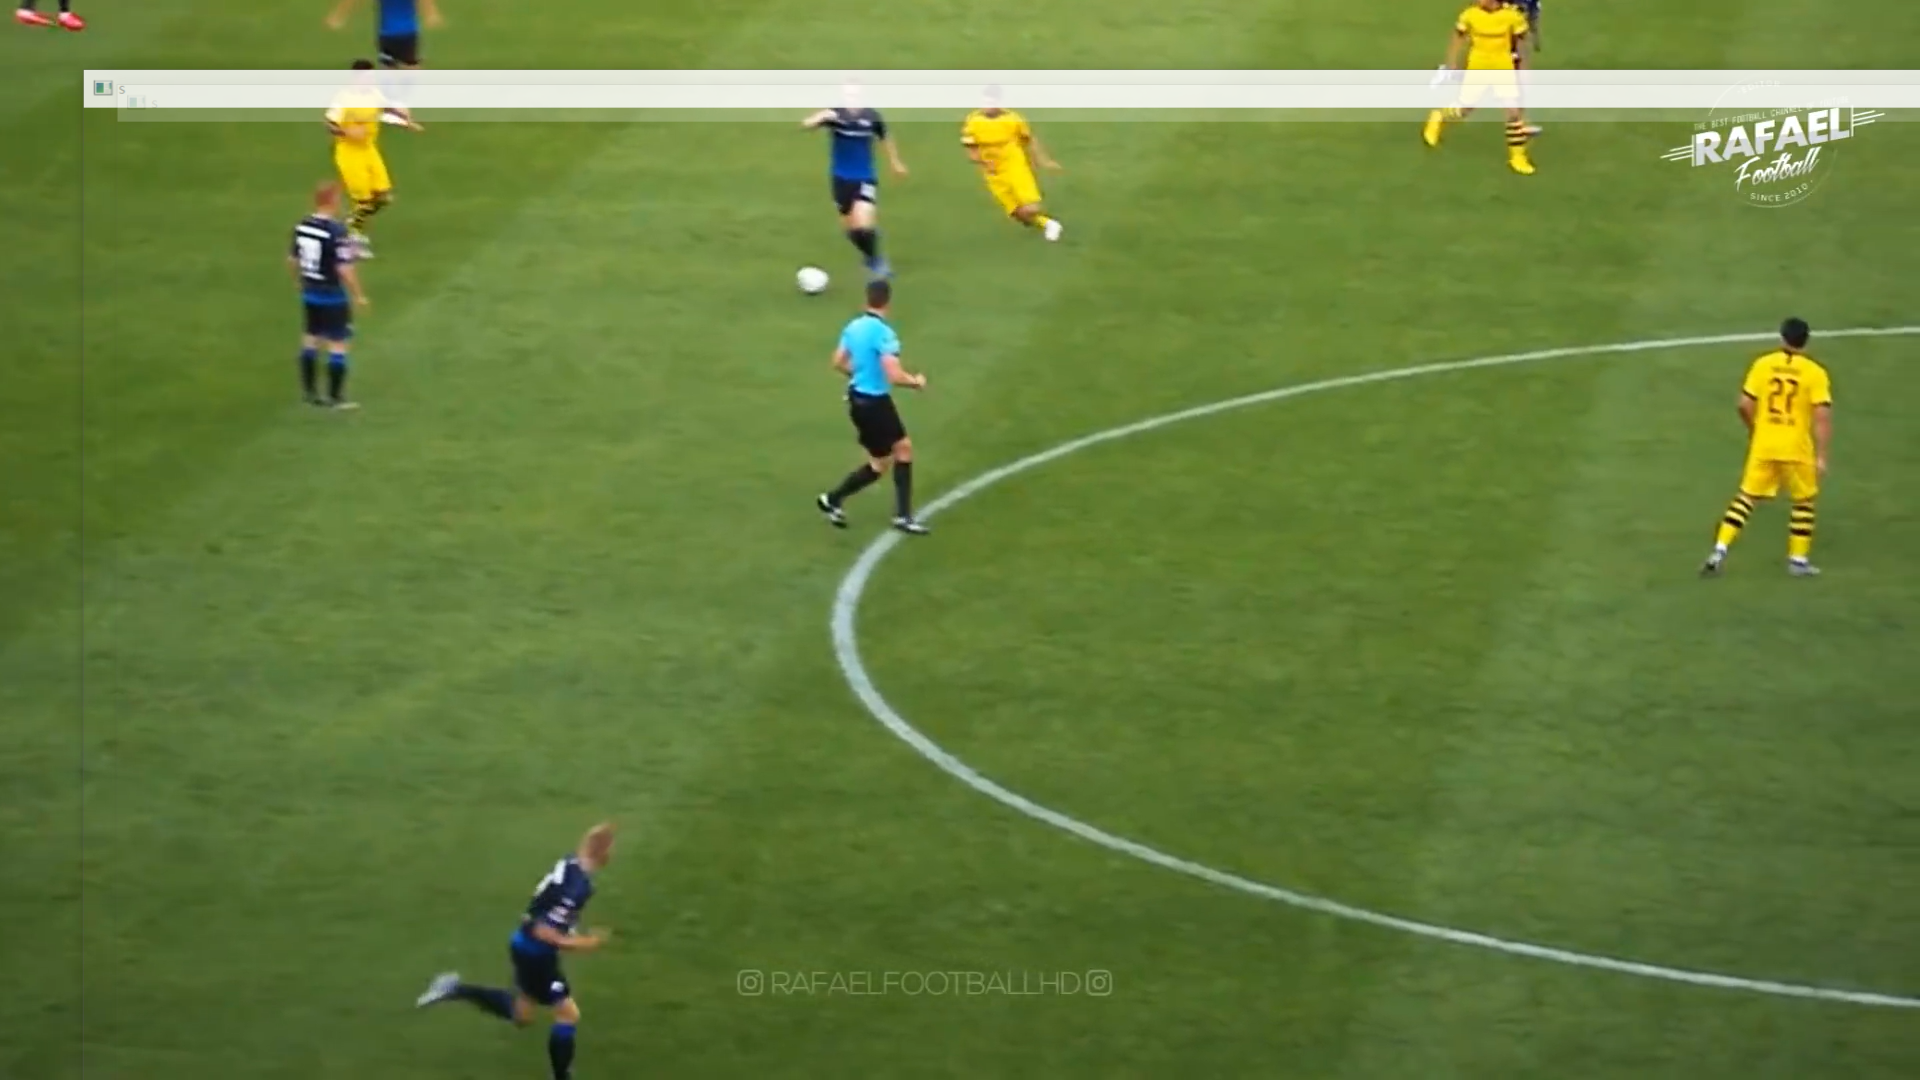ft: (794, 265, 829, 295)
